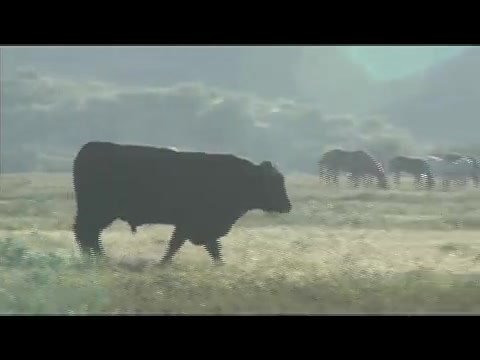cow: (73, 140, 294, 270), (318, 151, 389, 189), (431, 156, 480, 189), (389, 157, 433, 189)
